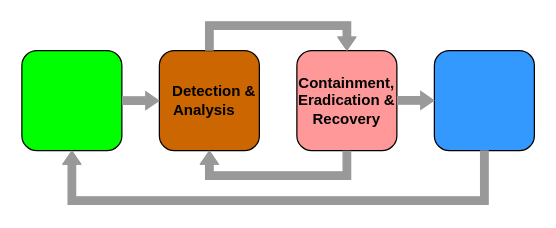
This 556x228 diagram has some shape labels left out. The centre of each missing label's shape, as x and y in pixels:
Post-Incident Activity: the point at 483,100
Preparation: the point at 71,100
